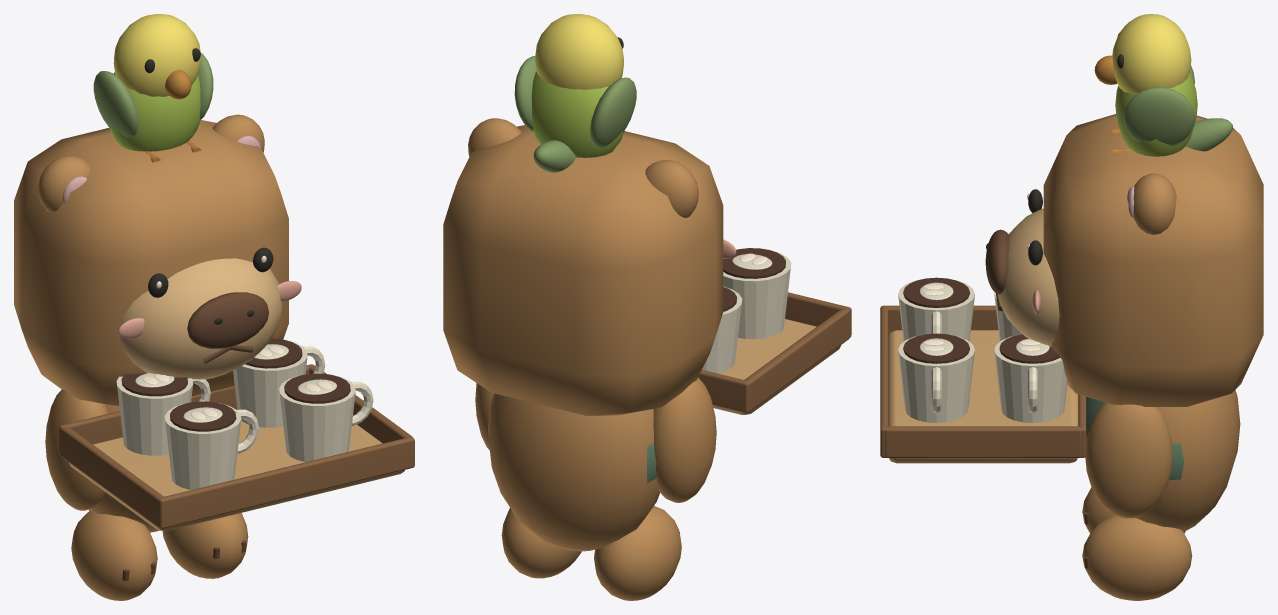
Rendered from capybara.glb.
The picture shows the model from 3 angles, left to right: view 1: azimuth 30°, elevation 25°; view 2: azimuth 150°, elevation 25°; view 3: azimuth 270°, elevation 25°; orthographic projection.
Parts seen in each view (by area): view 1: Capybara rounded head, Long capybara muzzle, tray rim.002, tray, foot_L, Bird head, Cup_4 pottery, Cup_3 pottery, foot_R, Bird tummy, tray rim, arm_L (+16 smaller); view 2: Capybara rounded head, Body, arm_L, Bird head, foot_L, Bird tummy, tray rim, Cup_3 pottery, foot_R, tray, Bird wing, Ear (+8 smaller); view 3: Capybara rounded head, arm_R, Body, foot_R, tray, tray rim.001, Long capybara muzzle, Bird head, Cup_4 pottery, Cup_2 pottery, Bird wing.001, Cup_3 pottery (+11 smaller).
Boxes of the visible parts, left/top/right/bottom form: Capybara rounded head: left=14, top=120, right=288, bottom=406; Long capybara muzzle: left=120, top=258, right=282, bottom=379; tray rim.002: left=158, top=437, right=414, bottom=528; tray: left=69, top=409, right=404, bottom=531; foot_L: left=71, top=511, right=157, bottom=600; Bird head: left=113, top=14, right=200, bottom=96; Cup_4 pottery: left=279, top=375, right=355, bottom=461; Cup_3 pottery: left=164, top=403, right=241, bottom=489; foot_R: left=162, top=513, right=248, bottom=578; Bird tummy: left=109, top=72, right=200, bottom=151; tray rim: left=60, top=426, right=163, bottom=527; arm_L: left=45, top=389, right=108, bottom=510; Capybara rounded head: left=443, top=125, right=723, bottom=415; Body: left=488, top=393, right=659, bottom=551; arm_L: left=653, top=377, right=716, bottom=502; Bird head: left=535, top=14, right=623, bottom=89; foot_L: left=594, top=506, right=681, bottom=600; Bird tummy: left=531, top=71, right=624, bottom=157; tray rim: left=744, top=308, right=849, bottom=410; Cup_3 pottery: left=723, top=250, right=791, bottom=339; foot_R: left=501, top=508, right=581, bottom=578; tray: left=713, top=319, right=841, bottom=414; Bird wing: left=590, top=77, right=636, bottom=147; Ear: left=645, top=160, right=698, bottom=217; Capybara rounded head: left=1043, top=114, right=1263, bottom=406; arm_R: left=1085, top=402, right=1172, bottom=518; Body: left=1136, top=390, right=1240, bottom=531; foot_R: left=1082, top=514, right=1192, bottom=600; tray: left=888, top=330, right=1078, bottom=463; tray rim.001: left=885, top=426, right=1081, bottom=457; Long capybara muzzle: left=997, top=208, right=1059, bottom=346; Bird head: left=1112, top=14, right=1191, bottom=93; Cup_4 pottery: left=898, top=334, right=974, bottom=422; Cup_2 pottery: left=994, top=334, right=1067, bottom=422; Bird wing.001: left=1123, top=87, right=1194, bottom=145; Cup_3 pottery: left=898, top=279, right=974, bottom=341.
Bounding box in the file's own units: 1.07 × 2.25 × 1.4.
